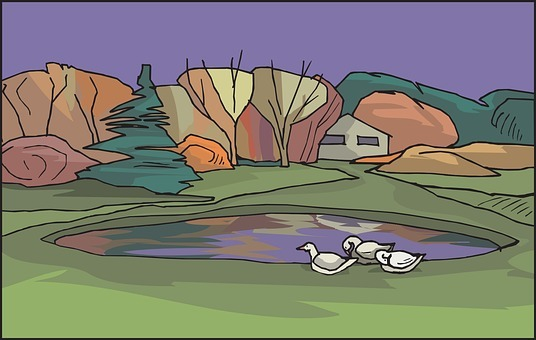bird: (292, 236, 356, 279), (371, 246, 422, 280), (340, 231, 395, 262)
